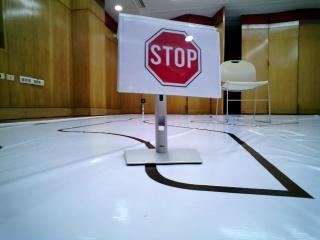stop: (131, 24, 211, 97)
